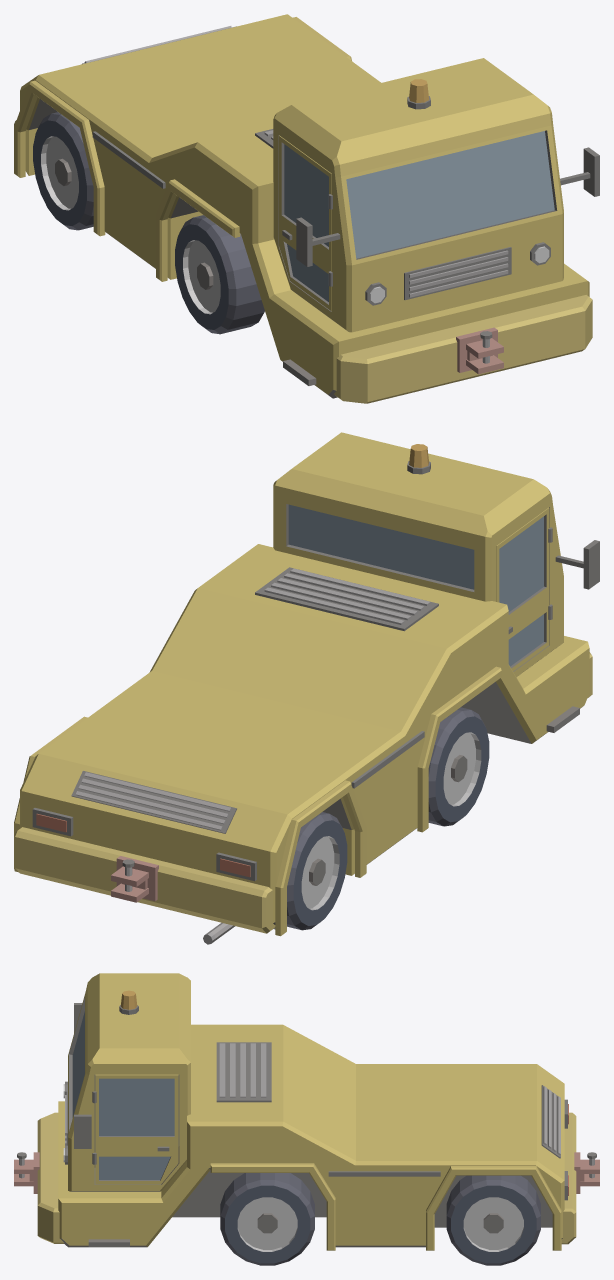
File: tug.glb
3 renders of one model, top to bottom at view 1: azimuth 30°, elevation 25°; view 2: azimuth 150°, elevation 25°; view 3: azimuth 270°, elevation 25°, orthographic. The views are drawn at different scales.
Visible parts, largest first — view 1: tug; view 2: tug; view 3: tug.
Boxes of the visible parts, bbox=[...] form: tug: bbox=[14, 14, 599, 403]; tug: bbox=[14, 432, 599, 944]; tug: bbox=[14, 973, 599, 1265].
Bounding box in the file's own units: 2.74 × 2.5 × 5.96.
